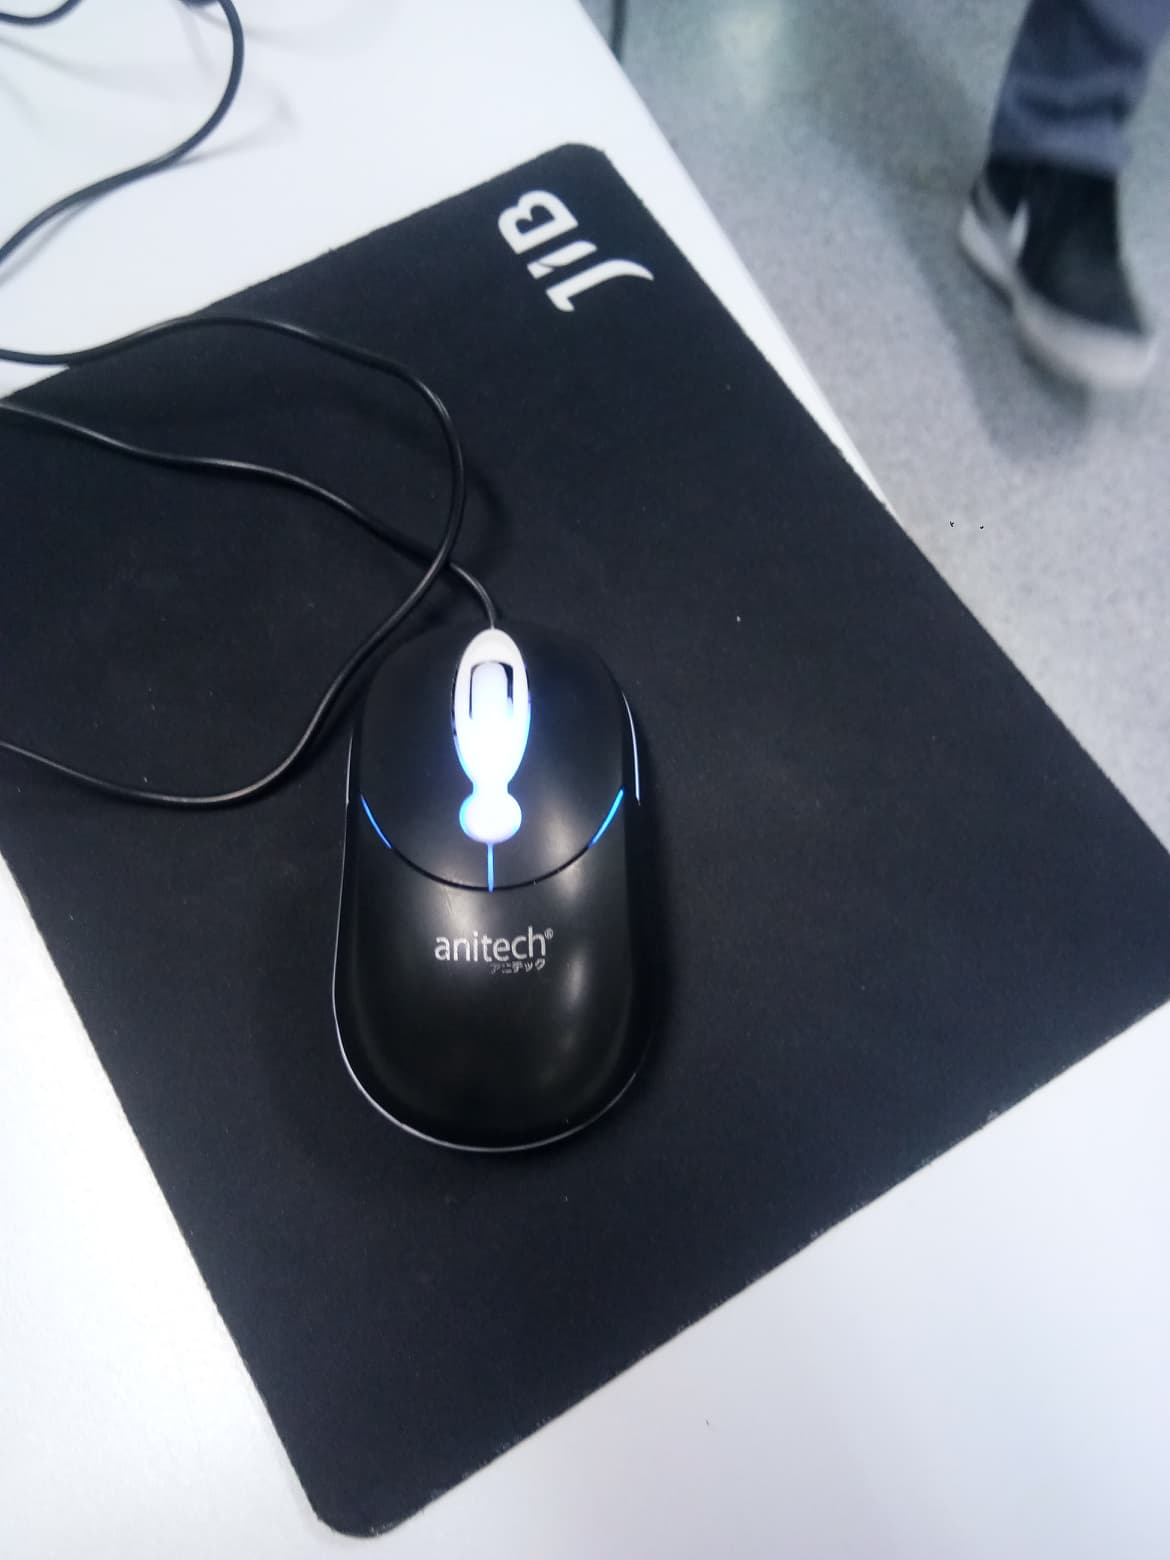mouse: (339, 615, 642, 1162)
